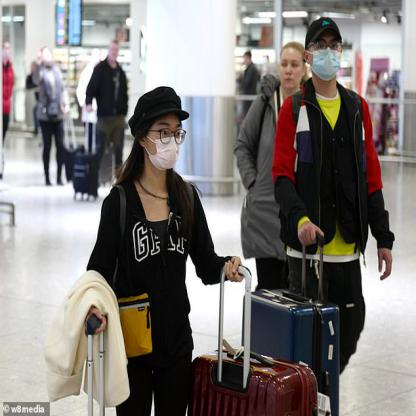Not_Wearing_Mask: (282, 53, 300, 87), (110, 44, 120, 59)
Wearing_Mask: (146, 119, 182, 172), (310, 38, 341, 84)
